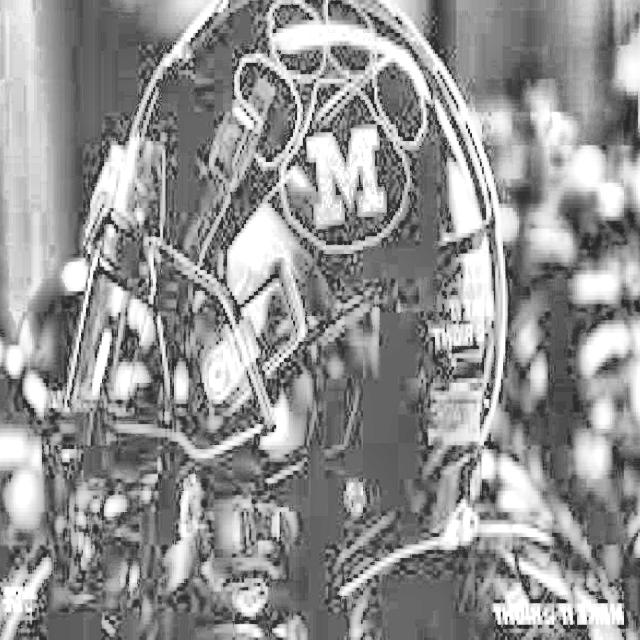Helmet: (51, 0, 515, 630)
